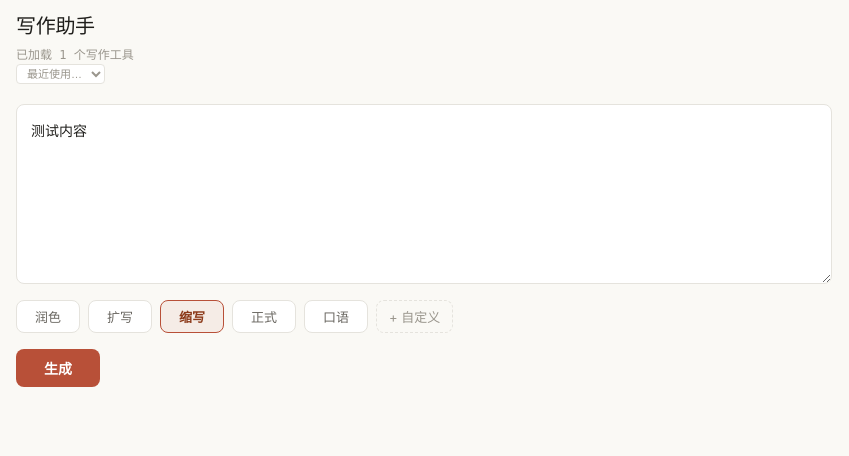
<CastWritingPage /> › shows error on generate failure
Replace the text in the text box with placeholder "输入需要处理的内容…" with "触发错误" at (424, 194), box [16,104,832,284]
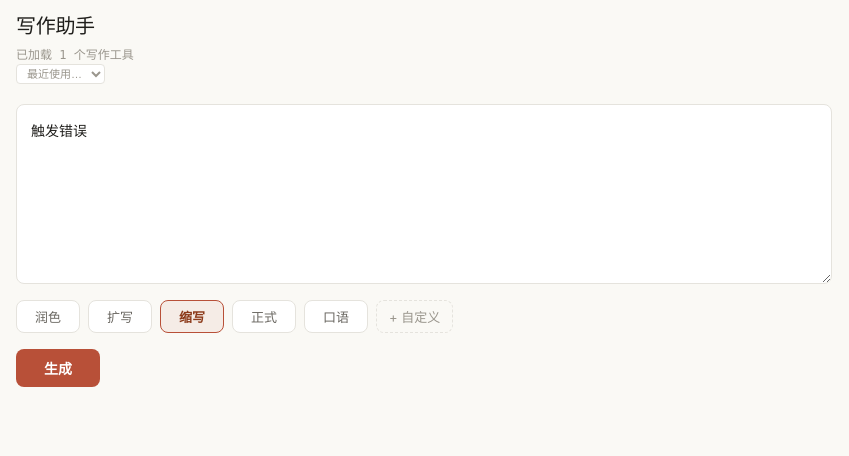
Click the button "生成" at (58, 368), box [16,349,100,387]
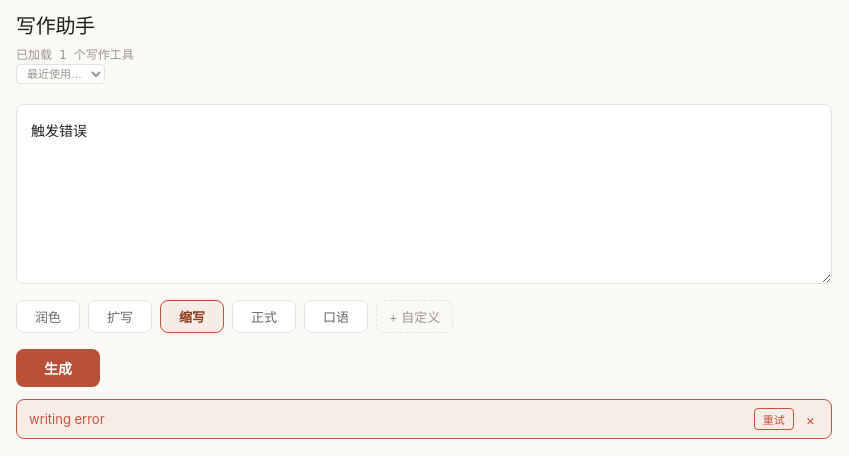
Check: the text "writing error" is shown, box [29,411,105,427]
